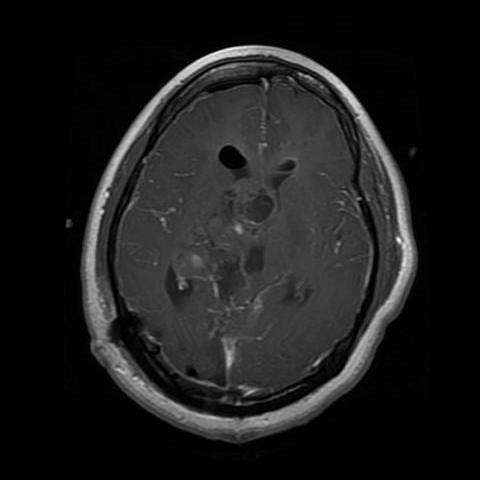Tumour-Glioma: (159, 254, 201, 327)
